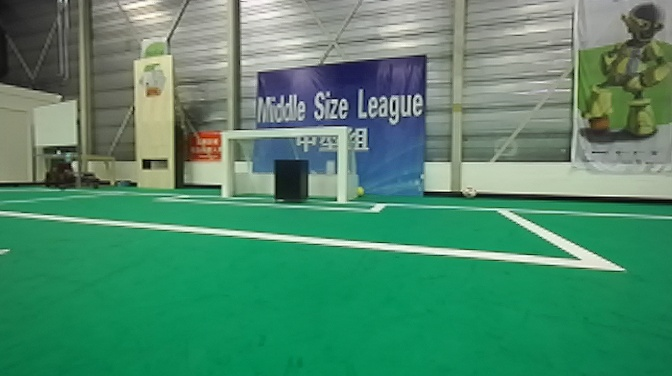ball: (460, 181, 474, 195), (353, 187, 365, 198)
goalpost: (335, 128, 350, 204), (220, 132, 232, 195)
